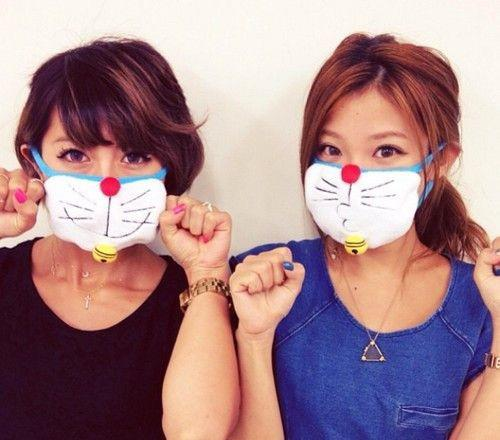OK: (46, 127, 172, 253), (305, 129, 421, 245)
